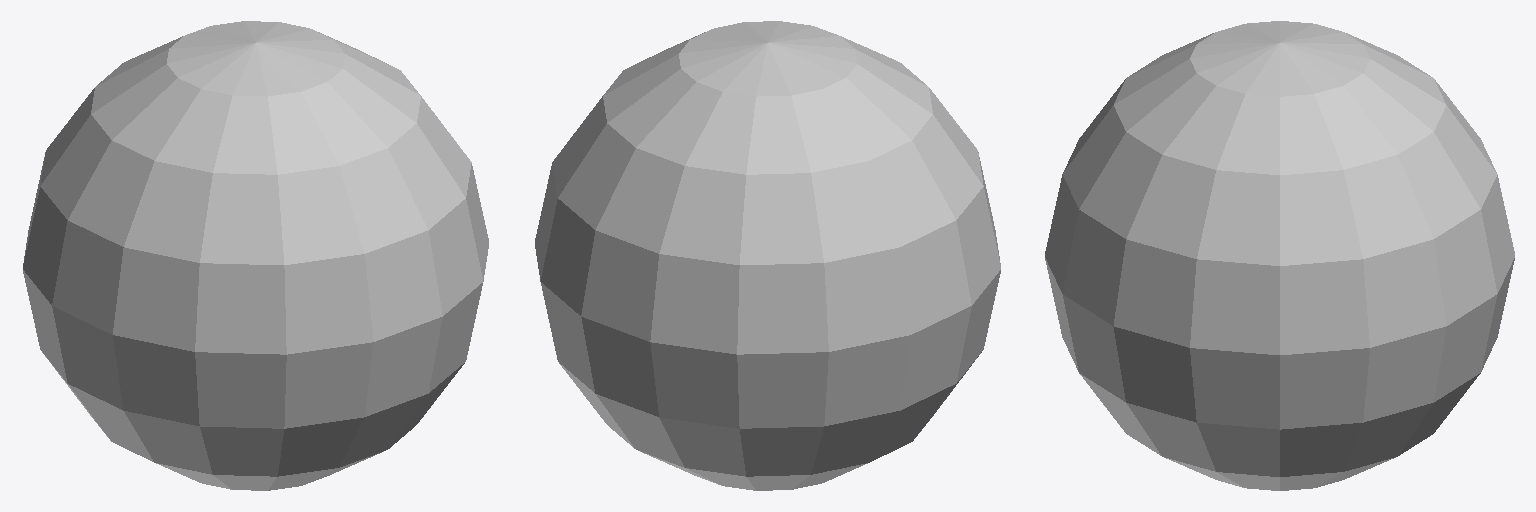
File: bola4.obj
3 views of the same model, side by side, from view 1: azimuth 30°, elevation 25°; view 2: azimuth 150°, elevation 25°; view 3: azimuth 270°, elevation 25° (orthographic).
Visible parts, largest first — view 1: POOL_TABLE.028; view 2: POOL_TABLE.028; view 3: POOL_TABLE.028.
Part boxes in pixels (x1,y1,x2,y2): POOL_TABLE.028: (23,21,488,490); POOL_TABLE.028: (535,21,1000,490); POOL_TABLE.028: (1045,21,1514,490).
Size of the model in its own units: 0.0585 by 0.0585 by 0.0585.